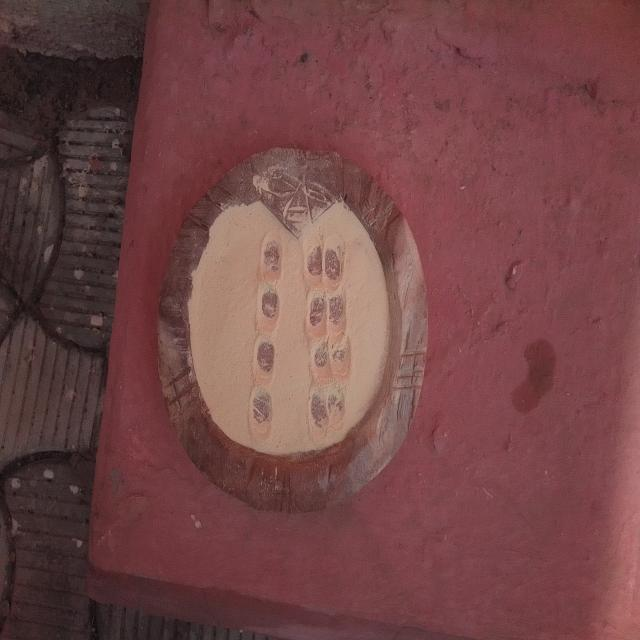double: (303, 228, 348, 293), (304, 336, 354, 392), (304, 289, 350, 344), (306, 386, 347, 444)
single: (248, 380, 274, 446), (250, 334, 279, 388), (257, 232, 285, 286), (256, 284, 282, 336)
